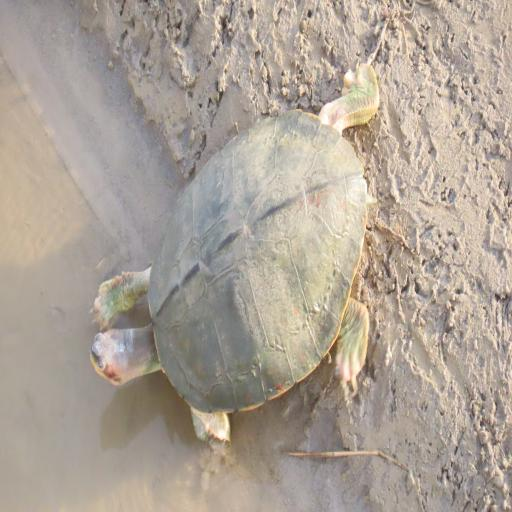turtle: (89, 59, 387, 450)
